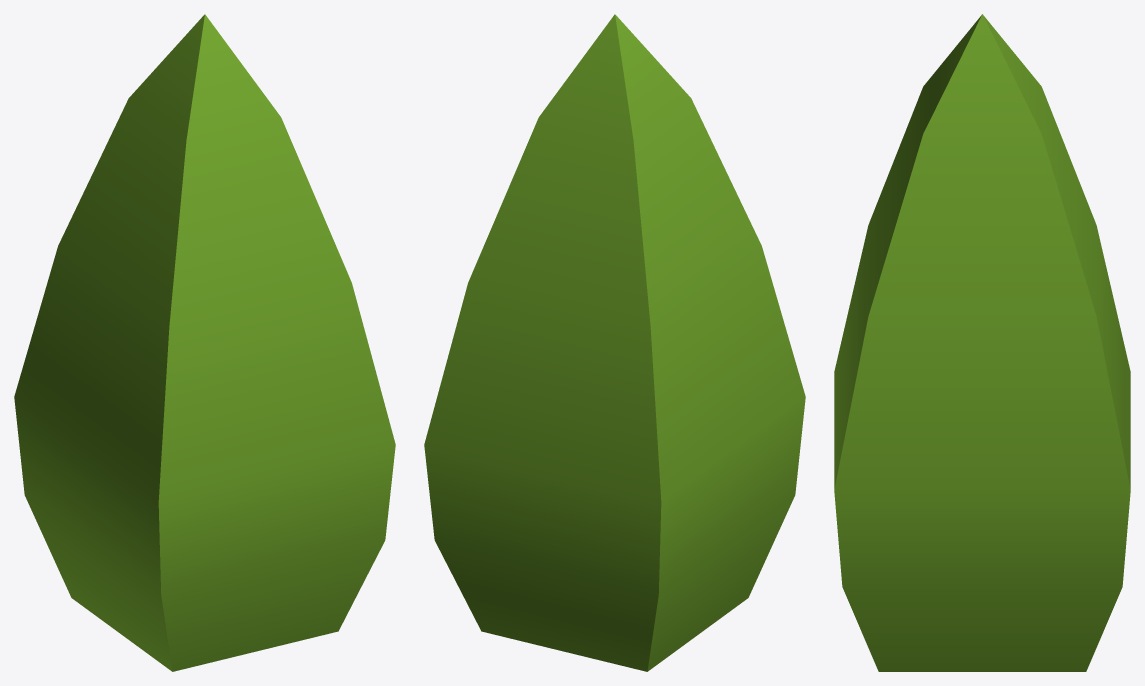
Rendered from thuja_02.fbx.
3 renders of one model, left to right at view 1: azimuth 30°, elevation 25°; view 2: azimuth 150°, elevation 25°; view 3: azimuth 270°, elevation 25°, orthographic. The views are drawn at different scales.
Parts seen in each view (by area): view 1: thuja_02; view 2: thuja_02; view 3: thuja_02.
Boxes of the visible parts, x1,y1,x2,y2 form: thuja_02: (14,14,395,671); thuja_02: (424,14,805,671); thuja_02: (834,14,1130,671).
Size of the model in its own units: 0.8427 by 2.04 by 0.8892.
